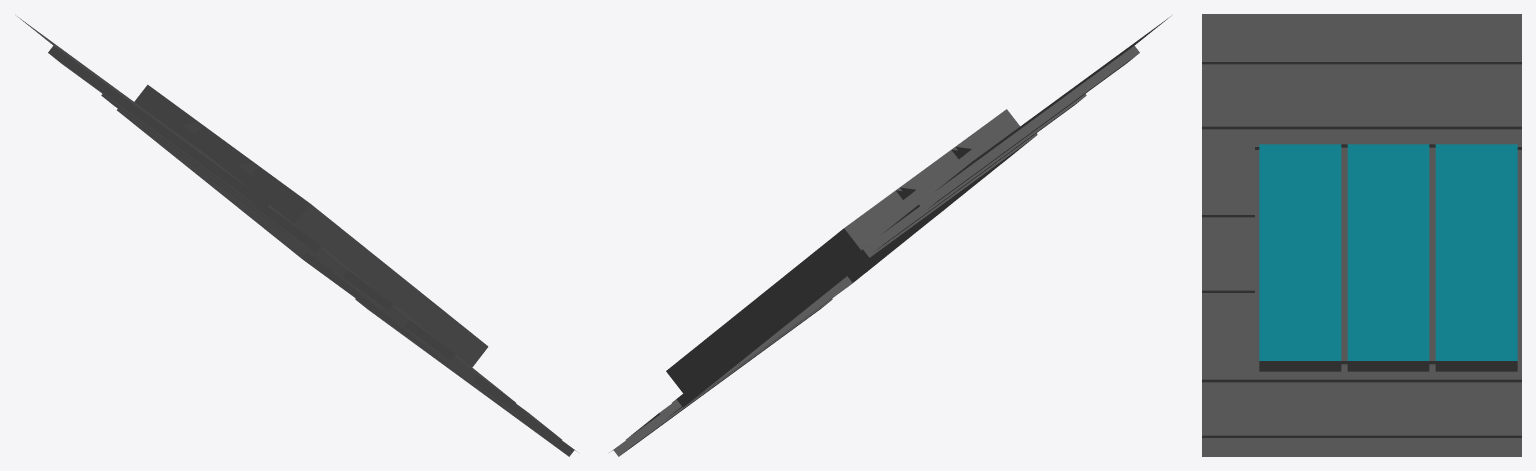
File: Takfönster.fbx
3 views of the same model, side by side, from view 1: azimuth 30°, elevation 25°; view 2: azimuth 150°, elevation 25°; view 3: azimuth 270°, elevation 25° (orthographic). The views are drawn at different scales.
Visible parts, largest first — view 1: polySurface12; view 2: polySurface12; view 3: polySurface12.
Boxes of the visible parts, x1,y1,x2,y2 form: polySurface12: (17, 16, 578, 456); polySurface12: (609, 16, 1170, 456); polySurface12: (1202, 14, 1521, 456).
Bounding box in the file's own units: 2.09 × 2.09 × 2.
